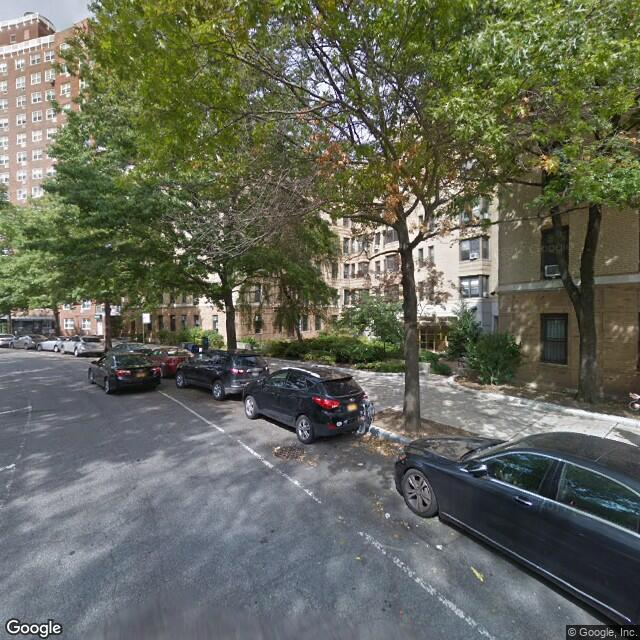litter: (470, 566, 486, 584), (435, 543, 444, 553), (383, 510, 392, 519)
